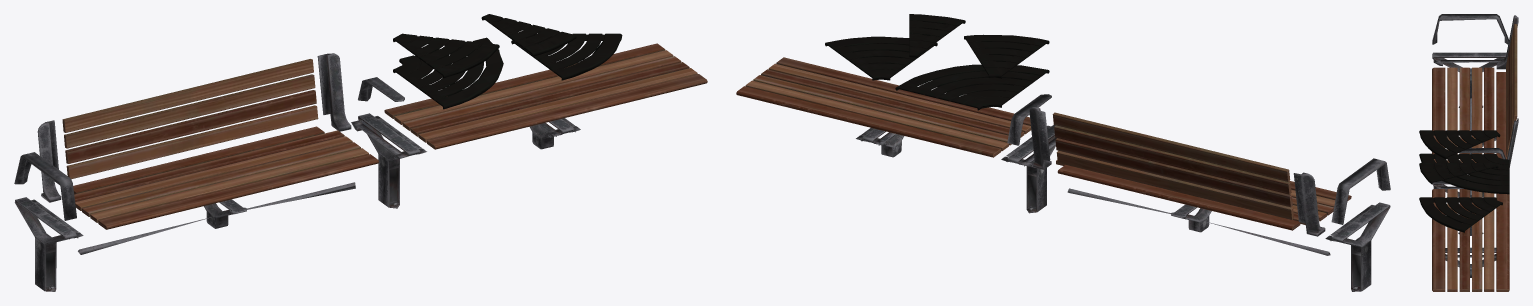
Rendered from seat.glb.
The picture shows the model from 3 angles, left to right: view 1: azimuth 30°, elevation 25°; view 2: azimuth 150°, elevation 25°; view 3: azimuth 270°, elevation 25°; orthographic projection. The views are drawn at different scales.
Visible parts, largest first — view 1: seat_back, seat, seat_bench, connector_90, legs_double, connector_45, legs_single, connector_60, connector_30, back_support_l, arm_rest_01, back_support_r (+4 smaller); view 2: seat_bench, seat_back, connector_90, seat, connector_60, legs_single, connector_45, legs_double, connector_30, arm_rest_01, back_support_r, back_support_l (+4 smaller); view 3: seat_bench, seat, connector_90, connector_60, connector_45, seat_back, connector_30, legs_single, arm_rest_01, back_support_r, legs_double, back_support_l (+2 smaller).
Boxes of the visible parts, bbox=[...] form: seat_back: bbox=[62, 59, 318, 179]; seat: bbox=[73, 126, 378, 229]; seat_bench: bbox=[384, 43, 707, 149]; connector_90: bbox=[393, 37, 503, 109]; legs_double: bbox=[351, 113, 426, 208]; connector_45: bbox=[393, 33, 499, 78]; legs_single: bbox=[14, 197, 83, 291]; connector_60: bbox=[511, 33, 622, 80]; connector_30: bbox=[481, 14, 576, 56]; back_support_l: bbox=[317, 53, 351, 131]; arm_rest_01: bbox=[14, 152, 76, 220]; back_support_r: bbox=[37, 120, 61, 202]; seat_bench: bbox=[736, 57, 1031, 157]; seat_back: bbox=[1052, 112, 1294, 219]; connector_90: bbox=[895, 64, 1049, 110]; seat: bbox=[1056, 160, 1351, 230]; connector_60: bbox=[825, 36, 937, 80]; legs_single: bbox=[1325, 202, 1390, 291]; connector_45: bbox=[964, 34, 1049, 78]; legs_double: bbox=[1001, 125, 1056, 213]; connector_30: bbox=[909, 14, 965, 57]; arm_rest_01: bbox=[1331, 158, 1390, 224]; back_support_r: bbox=[1293, 172, 1325, 236]; back_support_l: bbox=[1029, 107, 1051, 169]; seat_bench: bbox=[1432, 189, 1509, 291]; seat: bbox=[1432, 67, 1507, 162]; connector_90: bbox=[1419, 153, 1509, 194]; connector_60: bbox=[1419, 197, 1502, 232]; connector_45: bbox=[1419, 130, 1500, 159]; seat_back: bbox=[1506, 24, 1517, 157]; connector_30: bbox=[1419, 163, 1498, 184]; legs_single: bbox=[1432, 52, 1506, 107]; arm_rest_01: bbox=[1432, 14, 1508, 44]; back_support_r: bbox=[1496, 15, 1518, 69]; legs_double: bbox=[1432, 180, 1483, 235]; back_support_l: bbox=[1507, 118, 1518, 167].
Size of the model in its own units: 3.65 by 0.8 by 0.6487.
4 materials, 4 textured.
